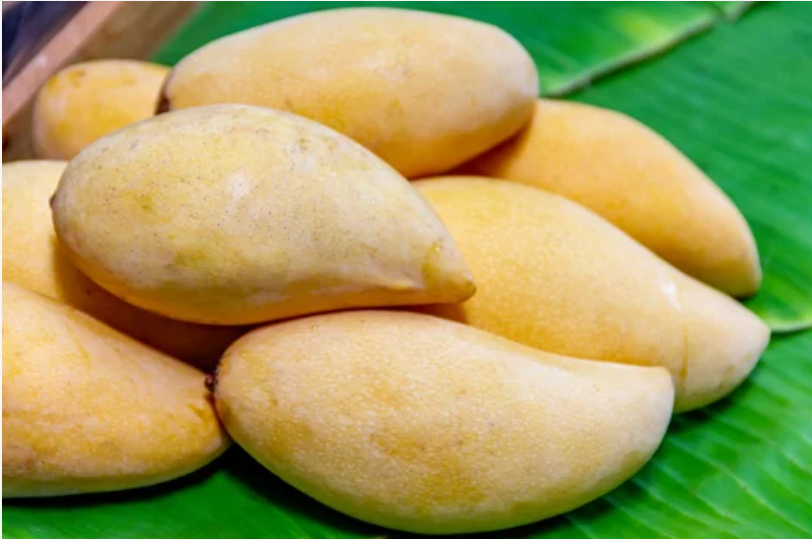mango: (211, 306, 677, 535), (54, 106, 477, 321)
